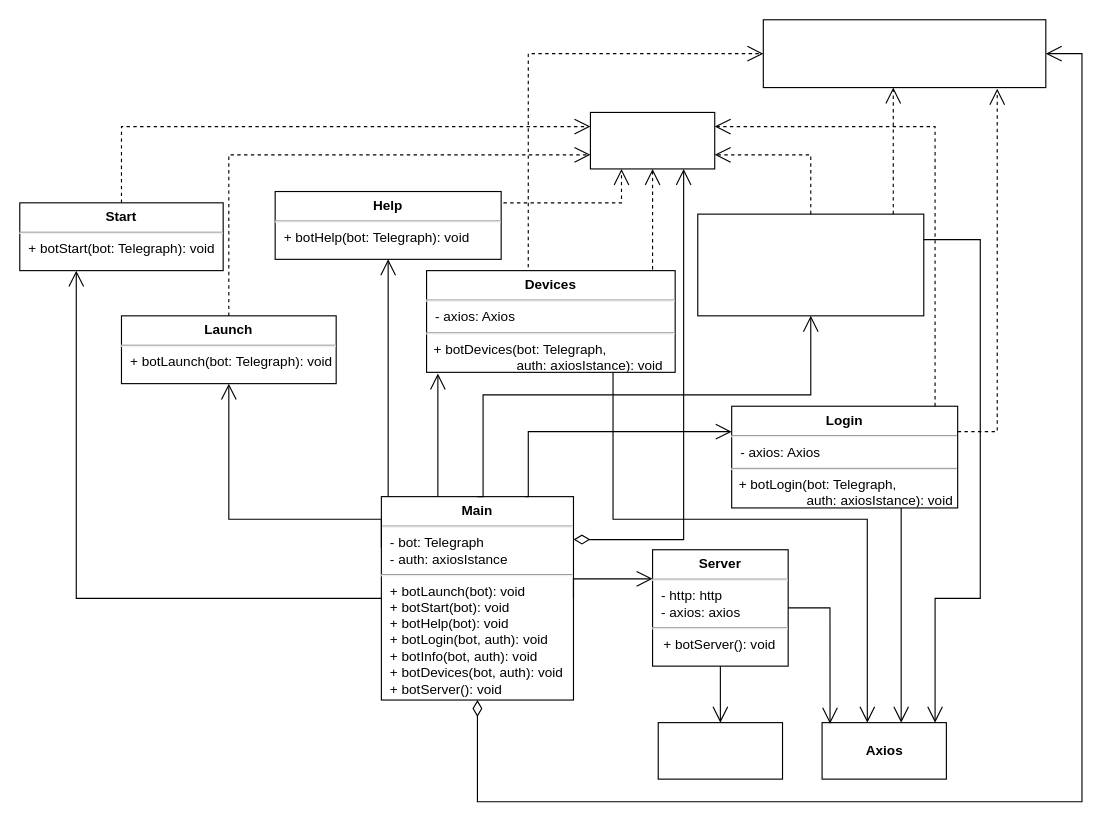
This 1119x838 diagram has some shape labels left out. Each missing label, with the centre of its shape:
"Auth + jwtAuth(axiosIstance: Axios): axiosIstance" goes at point 904,53.
"HTTP" goes at point 720,750.
"Info - axios: Axios + botInfo(bot: Telegraph, auth: axiosIstance): void" goes at point 810,264.
"Telegraph" goes at point 652,140.
